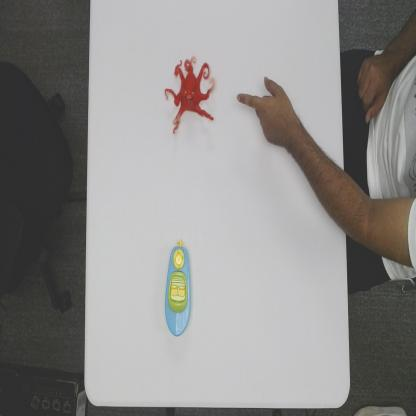Arm: (298, 129, 345, 237)
Boat: (164, 240, 192, 338)
Hand: (235, 76, 304, 149)
Octopus: (166, 55, 217, 125)
